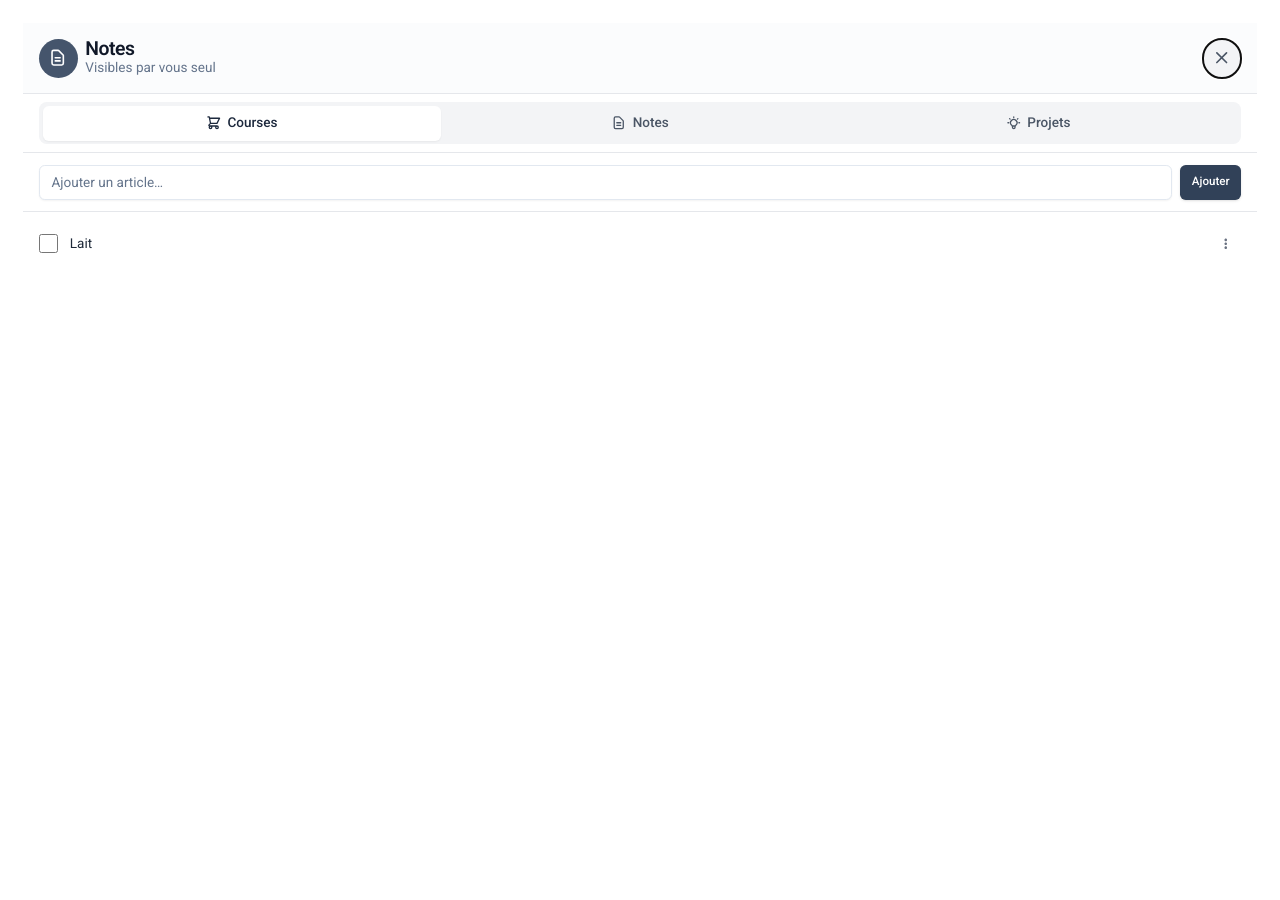
Test case: NotesDrawer — courses › signale un échec de cochage
The width and height of the screenshot is (1280, 900).
Click the checkbox labelled "Lait". click: (48, 243)
box: [39, 234, 58, 253]
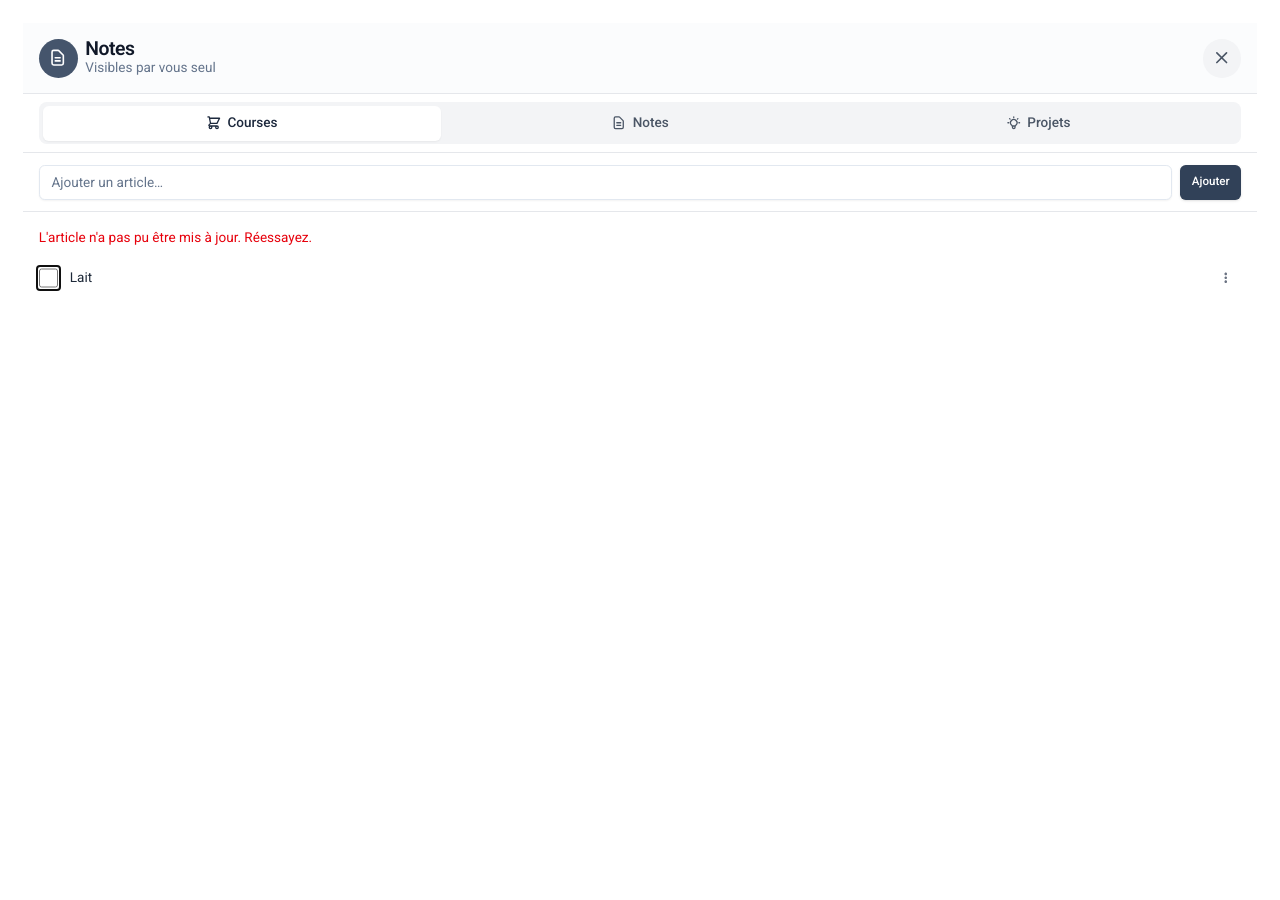
expect the message shows "L'article n'a pas pu être mis à jour": met, box [39, 229, 312, 245]
